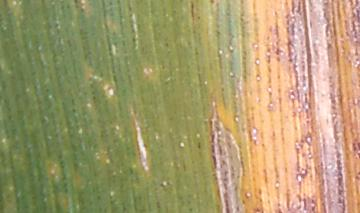tarspot: (196, 140, 202, 151), (2, 1, 8, 10), (195, 14, 202, 21), (72, 1, 79, 8), (209, 1, 215, 5)
